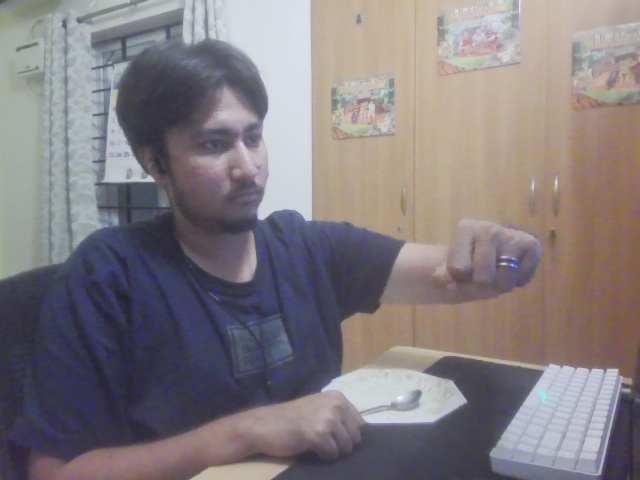yes: (430, 217, 546, 302)
